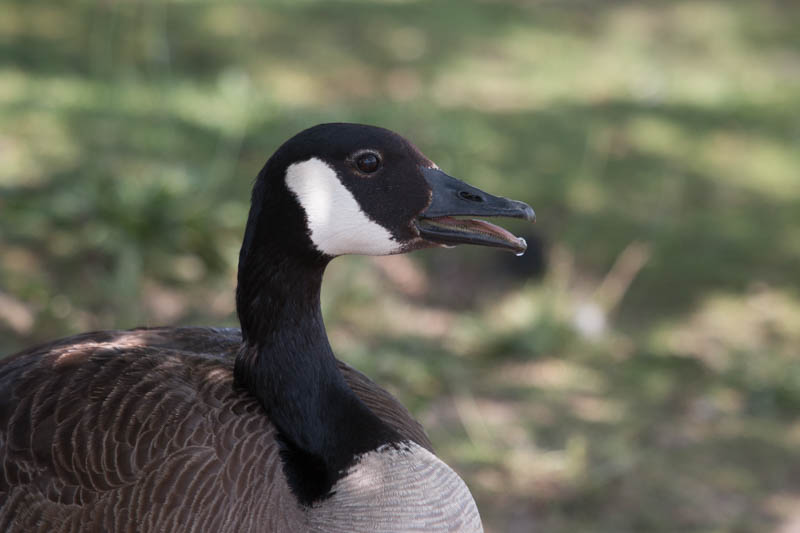goose-head: (243, 122, 536, 256)
